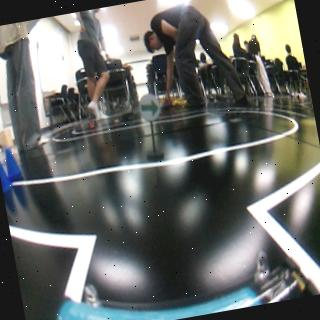right: (138, 92, 162, 124)
